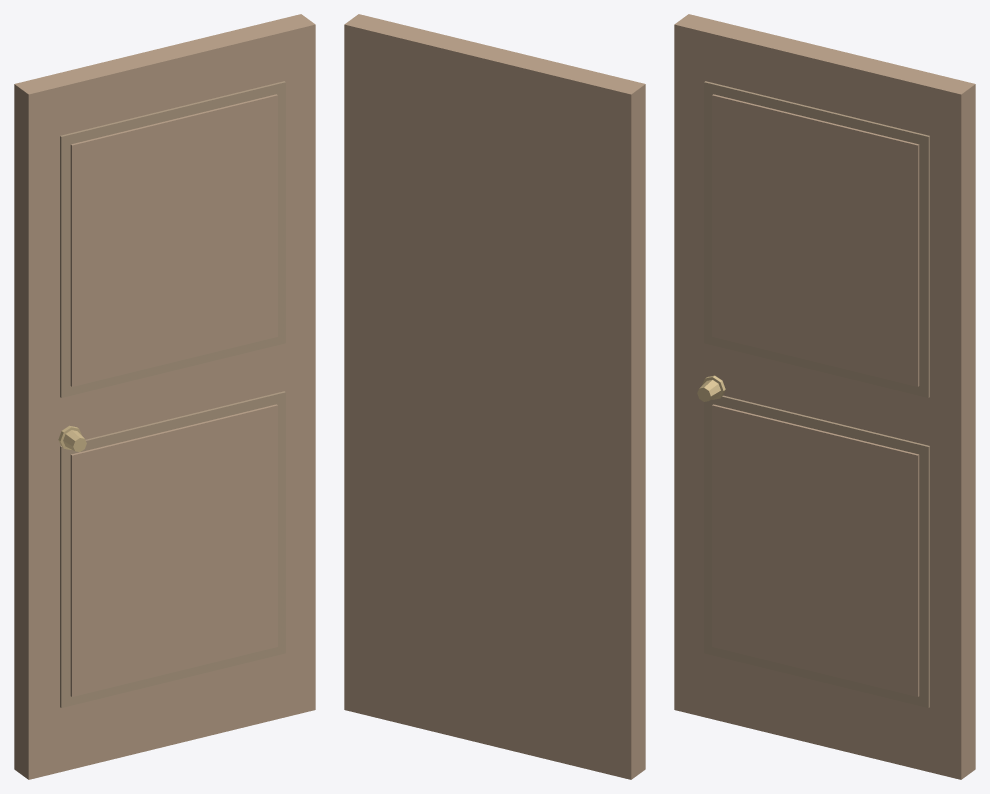
File: RoomDoor_home.fbx
3 views of the same model, side by side, from view 1: azimuth 30°, elevation 25°; view 2: azimuth 150°, elevation 25°; view 3: azimuth 330°, elevation 25° (orthographic).
Parts seen in each view (by area): view 1: RoomDoor_home; view 2: RoomDoor_home; view 3: RoomDoor_home.
Part boxes in pixels (<box>): RoomDoor_home: <box>14,14,315,779</box>; RoomDoor_home: <box>344,14,645,779</box>; RoomDoor_home: <box>674,14,975,779</box>.
Size of the model in its own units: 0.92 by 2.1 by 0.14.
